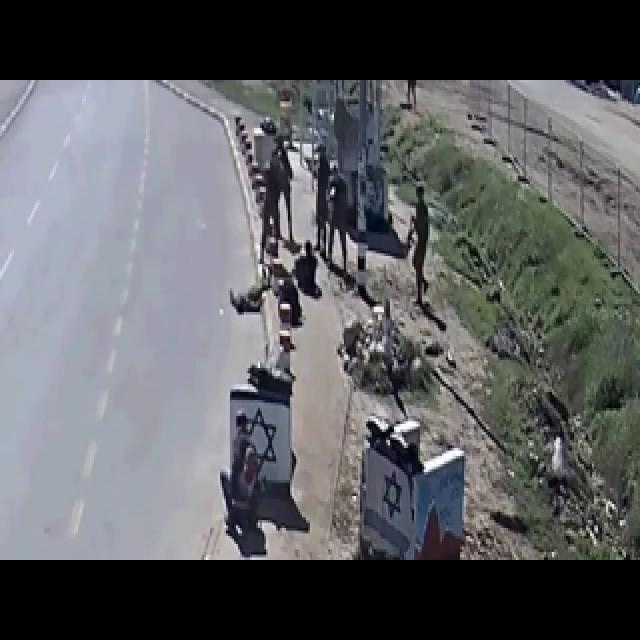shooting: (207, 71, 582, 559)
